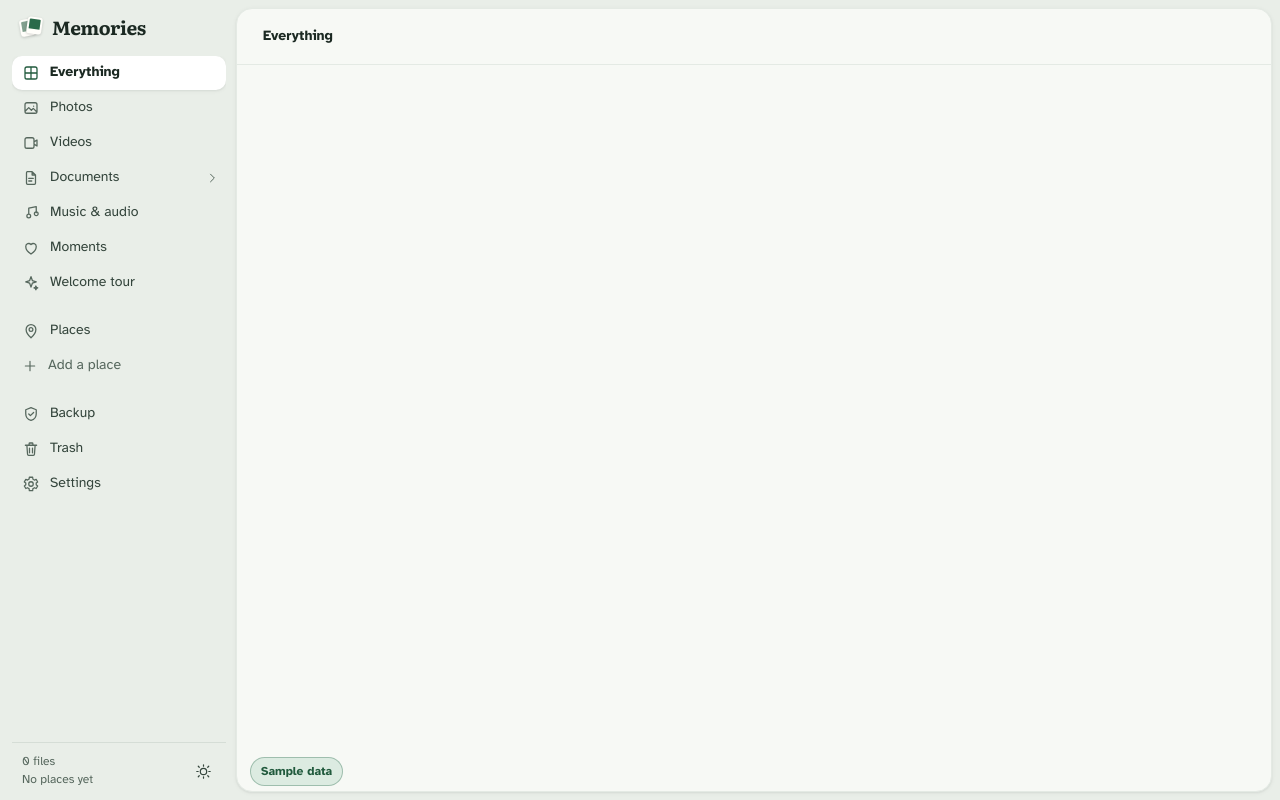
Test: MemoriesApp › offers a plugged-in Android phone on Places
Step 1. Click the button "Places" → (119, 330), box left=12, top=314, right=226, bottom=348
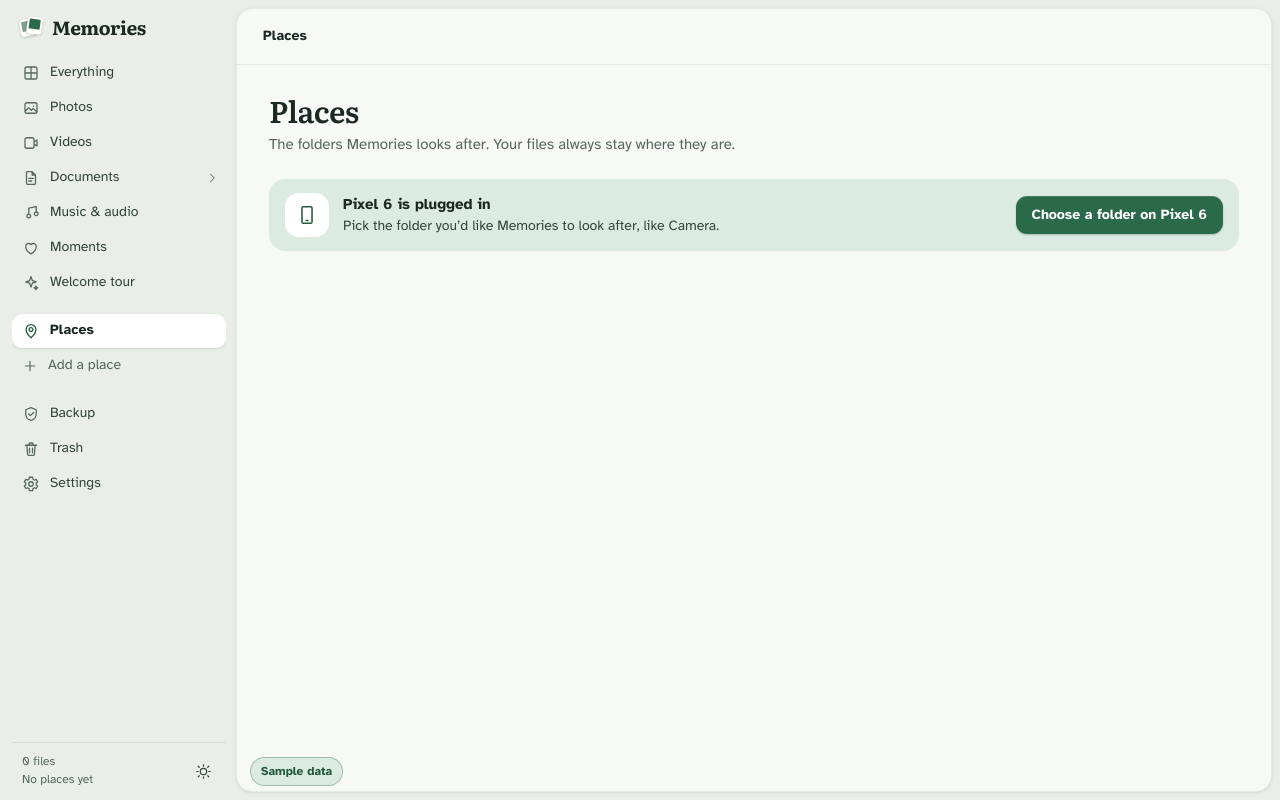
Check: the button "Choose a folder on Pixel 6" is shown, box left=1016, top=196, right=1223, bottom=234
Check: the text "Pixel 6 is plugged in" is shown, box left=343, top=195, right=491, bottom=213
